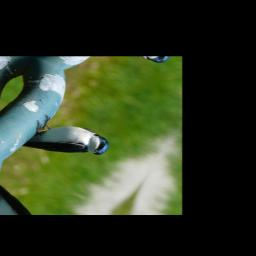Swallow: (19, 107, 115, 177)
